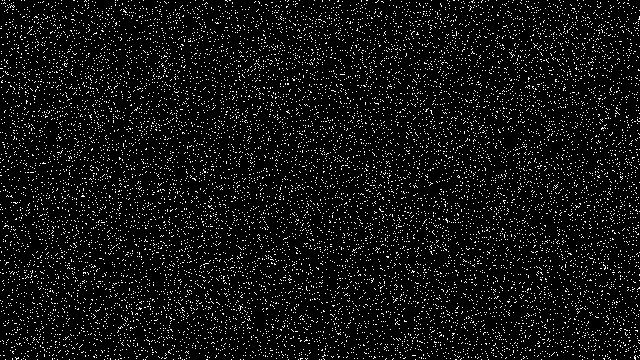pot: (330, 203, 458, 322)
